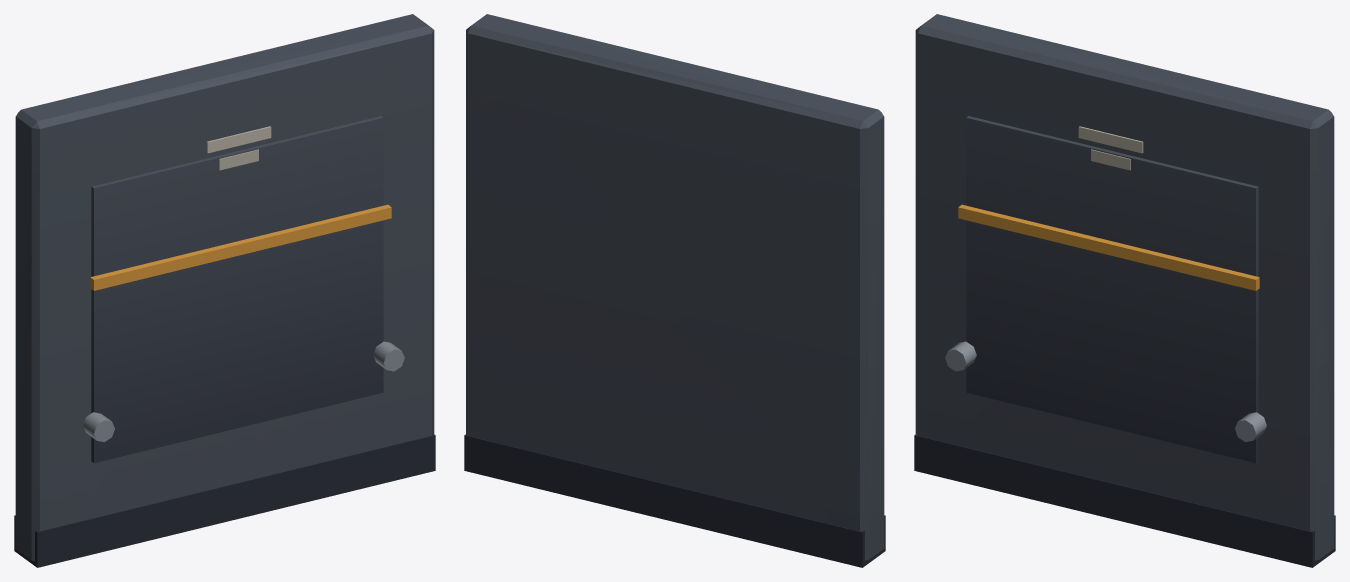
Rendered from blast-door.glb.
3 renders of one model, left to right at view 1: azimuth 30°, elevation 25°; view 2: azimuth 150°, elevation 25°; view 3: azimuth 330°, elevation 25°, orthographic.
Visible parts, largest first — view 1: blast_door; view 2: blast_door; view 3: blast_door.
Part boxes in pixels (bbox=[...]): blast_door: bbox=[14, 14, 435, 567]; blast_door: bbox=[464, 14, 885, 567]; blast_door: bbox=[914, 14, 1335, 567].
Bounding box in the file's own units: 1.9 × 2 × 0.2945.
